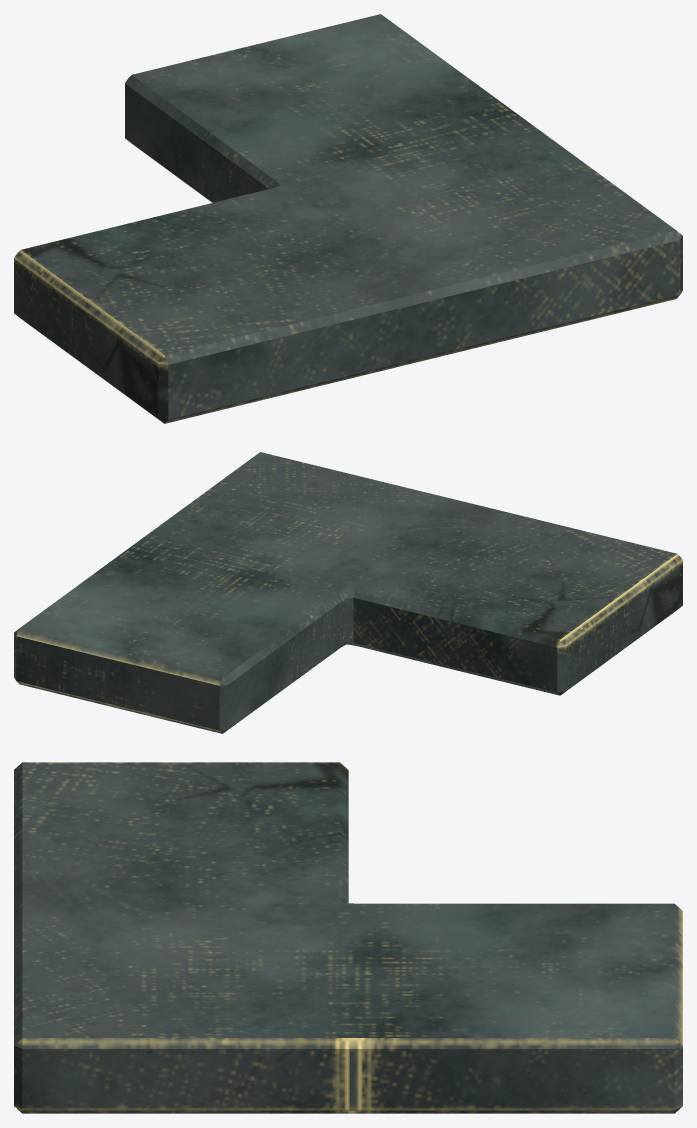
Rendered from Step_01_Corner.glb.
The picture shows the model from 3 angles, top to bottom: view 1: azimuth 30°, elevation 25°; view 2: azimuth 150°, elevation 25°; view 3: azimuth 270°, elevation 25°; orthographic projection. The views are drawn at different scales.
Visible parts, largest first — view 1: Step_01_Corner; view 2: Step_01_Corner; view 3: Step_01_Corner.
Part boxes in pixels (<box>): Step_01_Corner: <box>14,14,682,423</box>; Step_01_Corner: <box>14,452,682,733</box>; Step_01_Corner: <box>14,762,682,1113</box>.
Bounding box in the file's own units: 2 × 0.25 × 2.
Materials: 1 (1 with a texture image).
